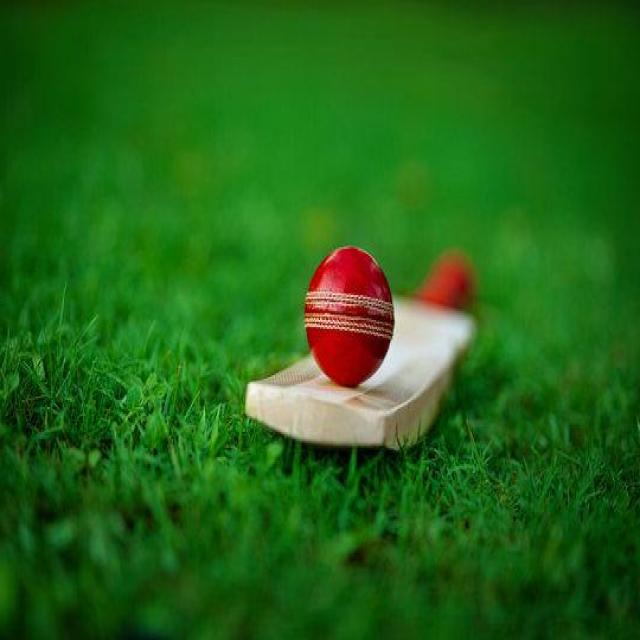ball: (302, 247, 395, 388)
